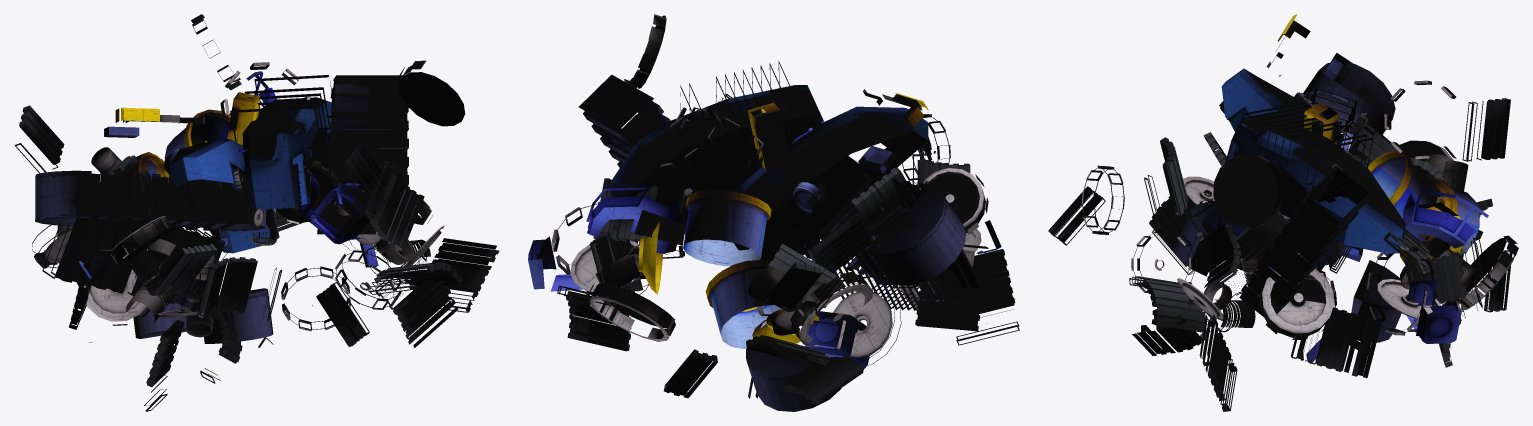
File: PlayerB_die17.obj
The picture shows the model from 3 angles, left to right: view 1: azimuth 30°, elevation 25°; view 2: azimuth 150°, elevation 25°; view 3: azimuth 270°, elevation 25°; orthographic projection. The views are drawn at different scales.
Parts seen in each view (by area): view 1: Object005; view 2: Object005; view 3: Object005.
Part boxes in pixels (x1,y1,x2,y2): Object005: [14, 14, 499, 411]; Object005: [528, 14, 1019, 411]; Object005: [1048, 14, 1518, 411].
Size of the model in its own units: 246 by 175 by 260.
2 materials, 2 textured.
